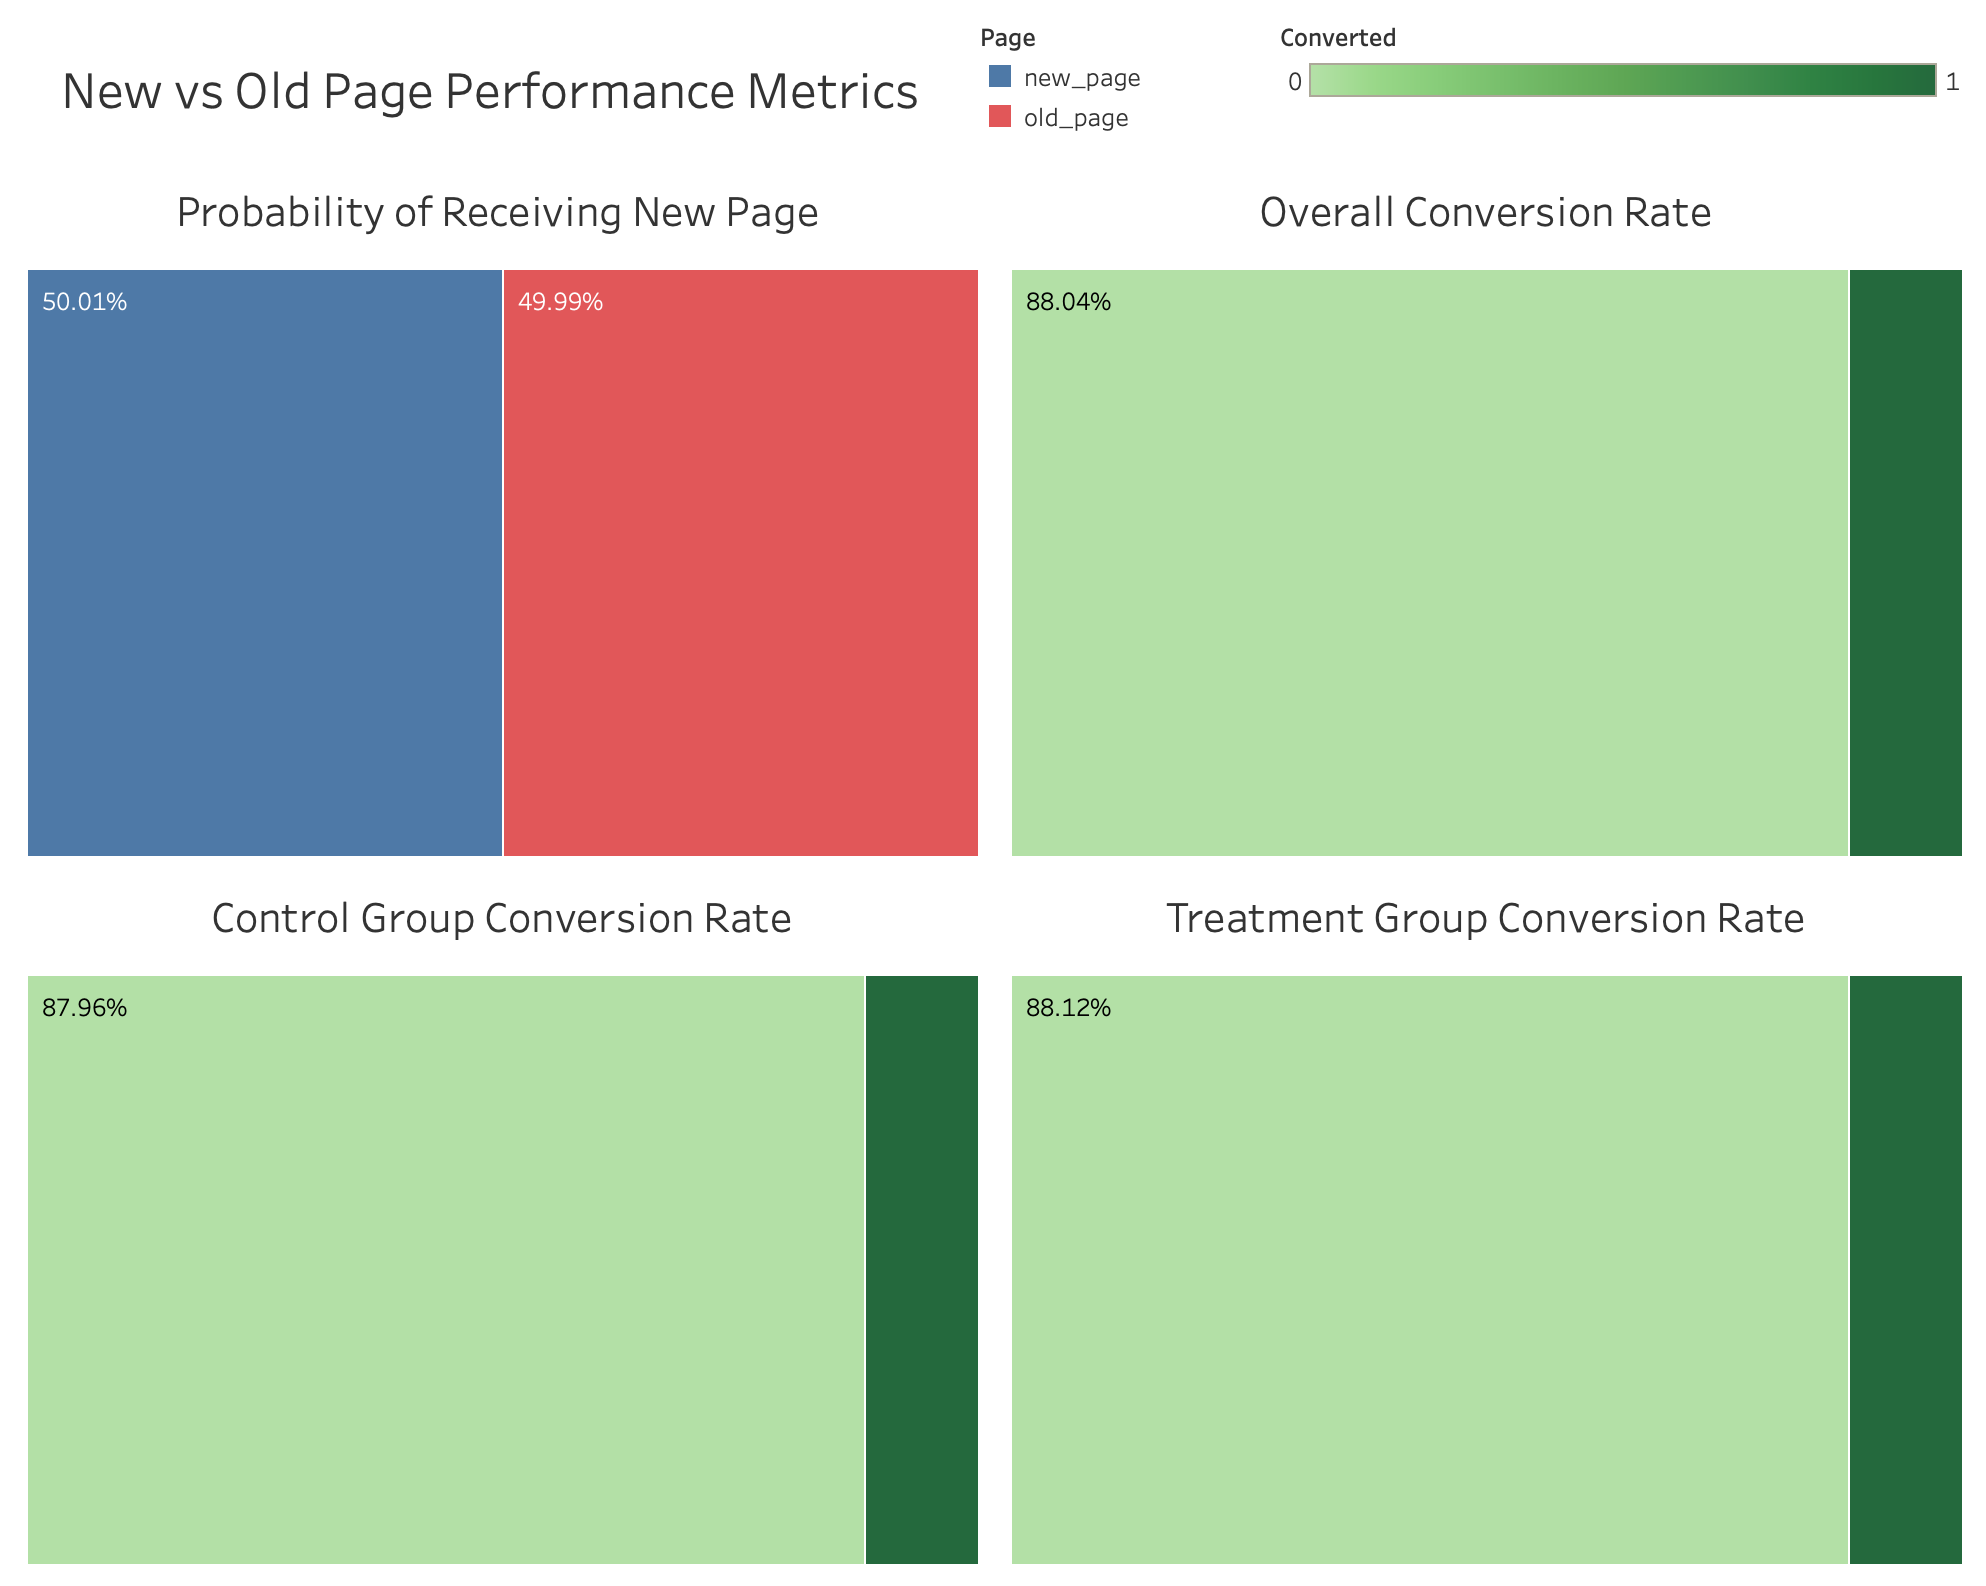

The dashboard page shown, as its layout file describes it:
{"tool":"tableau","page":{"name":"New vs Old Page Performance Metrics","canvas":[1000,800],"ordinal":0},"visuals":[{"type":"title","box":[8,8,481,77]},{"type":"legend","title":"Probability of Receiving New Page ","param":"[federated.10hyjv91bjbjki136xh1a0iwzgw8].[none:page:nk]","box":[489,8,150,77]},{"type":"legend","title":"Overall Conversion Rate","param":"[federated.10hyjv91bjbjki136xh1a0iwzgw8].[none:converted:qk]","box":[639,8,353,77]},{"type":"worksheet","title":"Probability of Receiving New Page ","mark":"Automatic","box":[8,85,492,353.5]},{"type":"worksheet","title":"Overall Conversion Rate","mark":"Automatic","box":[500,85,492,353.5]},{"type":"worksheet","title":"Control Group Conversion Rate","mark":"Automatic","box":[8,438.5,492,353.5]},{"type":"worksheet","title":"Treatment Group Conversion Rate","mark":"Automatic","box":[500,438.5,492,353.5]}]}

Visuals, with their boxes in screenshot pixels (x1, y1, x2, y2), scaled from the page's 1000x800 canvas onto the 1986x1586 screenshot:
title: x1=16 y1=16 x2=971 y2=169
"Probability of Receiving New Page " legend: x1=971 y1=16 x2=1269 y2=169
"Overall Conversion Rate" legend: x1=1269 y1=16 x2=1970 y2=169
"Probability of Receiving New Page " worksheet: x1=16 y1=169 x2=993 y2=869
"Overall Conversion Rate" worksheet: x1=993 y1=169 x2=1970 y2=869
"Control Group Conversion Rate" worksheet: x1=16 y1=869 x2=993 y2=1570
"Treatment Group Conversion Rate" worksheet: x1=993 y1=869 x2=1970 y2=1570
